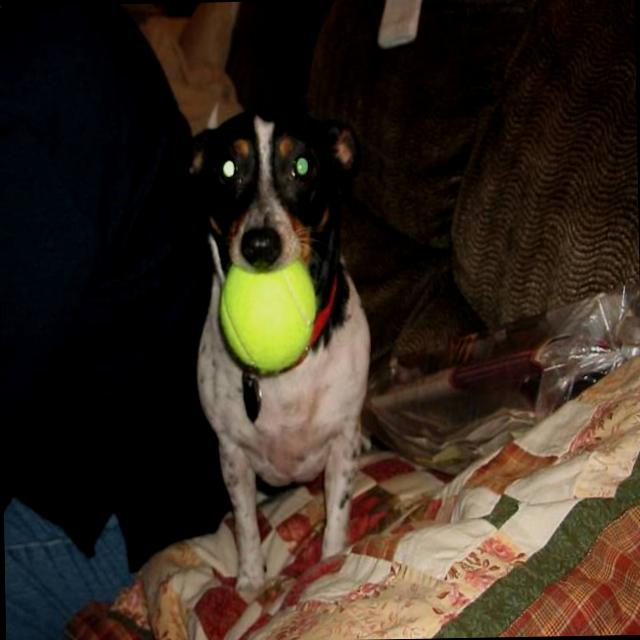Tennis Ball: (219, 257, 316, 370)
